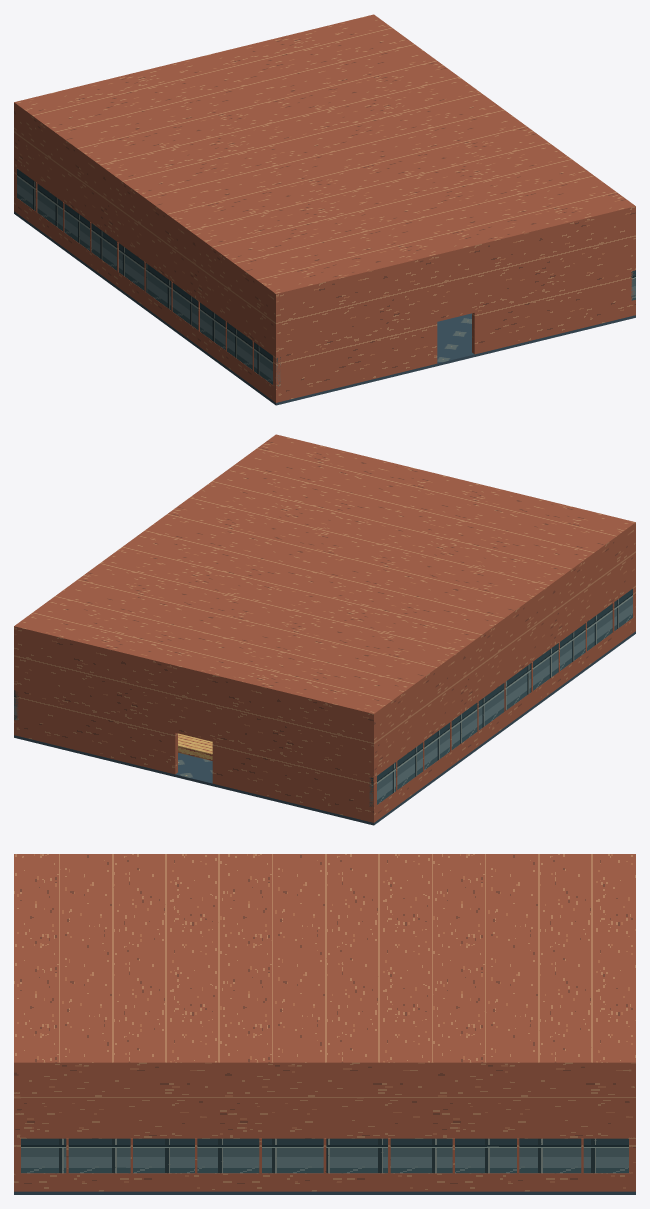
The model's file is ss-first-class-dining.glb.
The picture shows the model from 3 angles, top to bottom: view 1: azimuth 30°, elevation 25°; view 2: azimuth 150°, elevation 25°; view 3: azimuth 270°, elevation 25°; orthographic projection. The views are drawn at different scales.
Visible parts, largest first — view 1: shell.008, floor_ss-first-class-dining; view 2: shell.008, floor_ss-first-class-dining, fittings.008; view 3: shell.008, floor_ss-first-class-dining.
Part boxes in pixels (box(x1,y1,x2,y2)): shell.008: box(14, 14, 635, 402); floor_ss-first-class-dining: box(14, 211, 635, 405); shell.008: box(14, 434, 635, 822); floor_ss-first-class-dining: box(14, 631, 635, 825); fittings.008: box(178, 733, 212, 760); shell.008: box(14, 854, 635, 1191); floor_ss-first-class-dining: box(14, 1191, 635, 1194).
Bounding box in the file's own units: 23.04 × 6.81 × 29.
6 materials, 6 textured.
